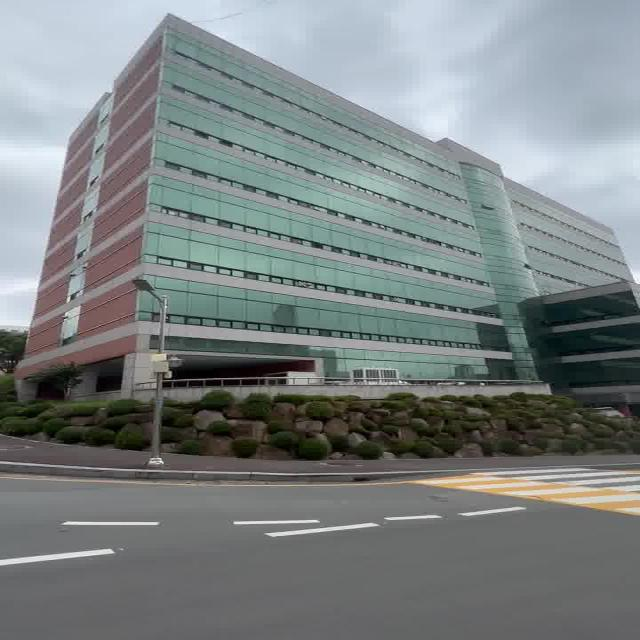building: (82, 47, 528, 370)
